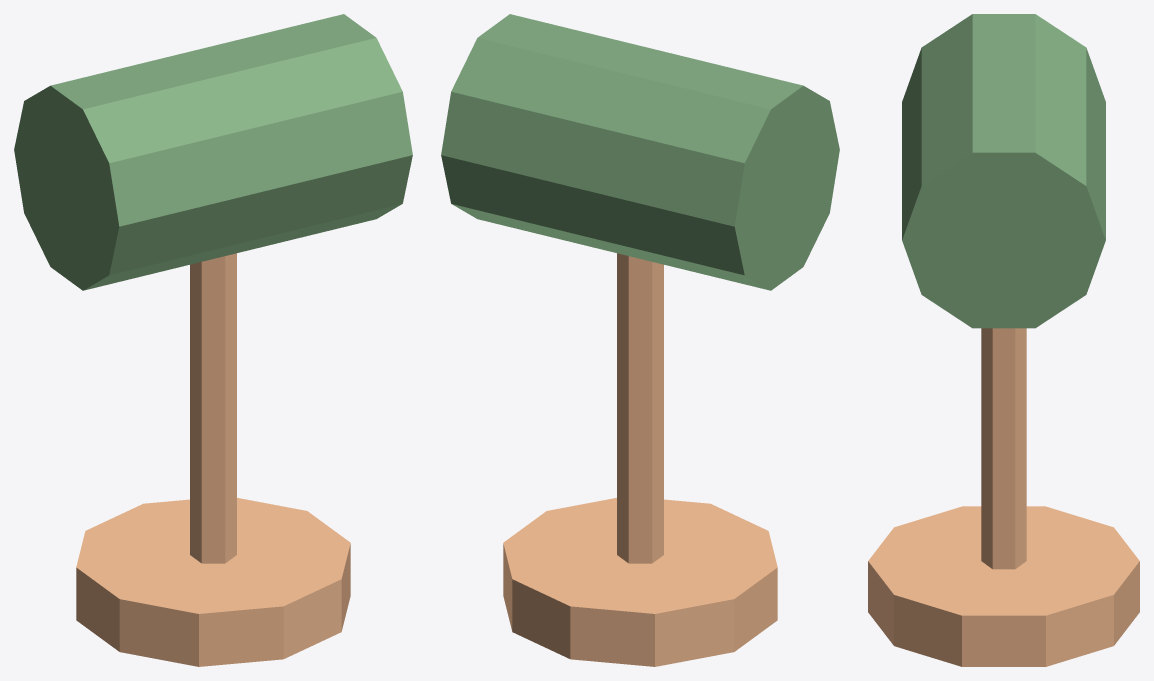
The picture shows the model from 3 angles, left to right: view 1: azimuth 30°, elevation 25°; view 2: azimuth 150°, elevation 25°; view 3: azimuth 270°, elevation 25°; orthographic projection. The views are drawn at different scales.
Visible parts, largest first — view 1: Shade, Foot, Stem; view 2: Shade, Foot, Stem; view 3: Shade, Foot, Stem.
Part boxes in pixels (x1,y1,x2,y2): Shade: [14, 14, 412, 290]; Foot: [76, 498, 350, 666]; Stem: [190, 253, 236, 563]; Shade: [441, 14, 839, 290]; Foot: [503, 498, 777, 666]; Stem: [617, 253, 663, 563]; Shade: [902, 14, 1105, 328]; Foot: [868, 506, 1139, 666]; Stem: [981, 328, 1026, 569].
Size of the model in its own units: 29 by 51.56 by 24.
